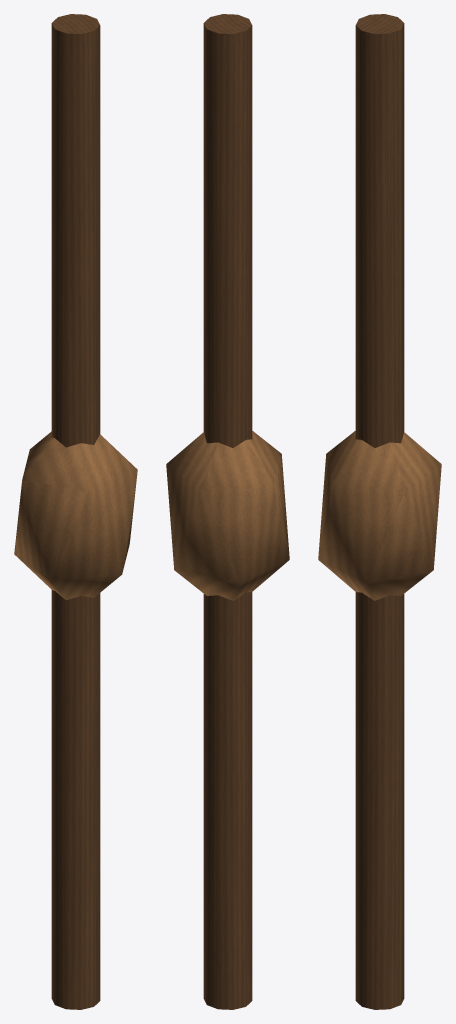
Rendered from equipment-staff.fbx.
3 views of the same model, side by side, from view 1: azimuth 30°, elevation 25°; view 2: azimuth 210°, elevation 25°; view 3: azimuth 330°, elevation 25° (orthographic).
Parts seen in each view (by area): view 1: equipment-staff__Geometry; view 2: equipment-staff__Geometry; view 3: equipment-staff__Geometry.
Part boxes in pixels (box(x1,y1,x2,y2)): equipment-staff__Geometry: box(14, 14, 137, 1009); equipment-staff__Geometry: box(166, 14, 289, 1009); equipment-staff__Geometry: box(318, 14, 441, 1009).
Size of the model in its own units: 0.1789 by 1.55 by 0.1701.
